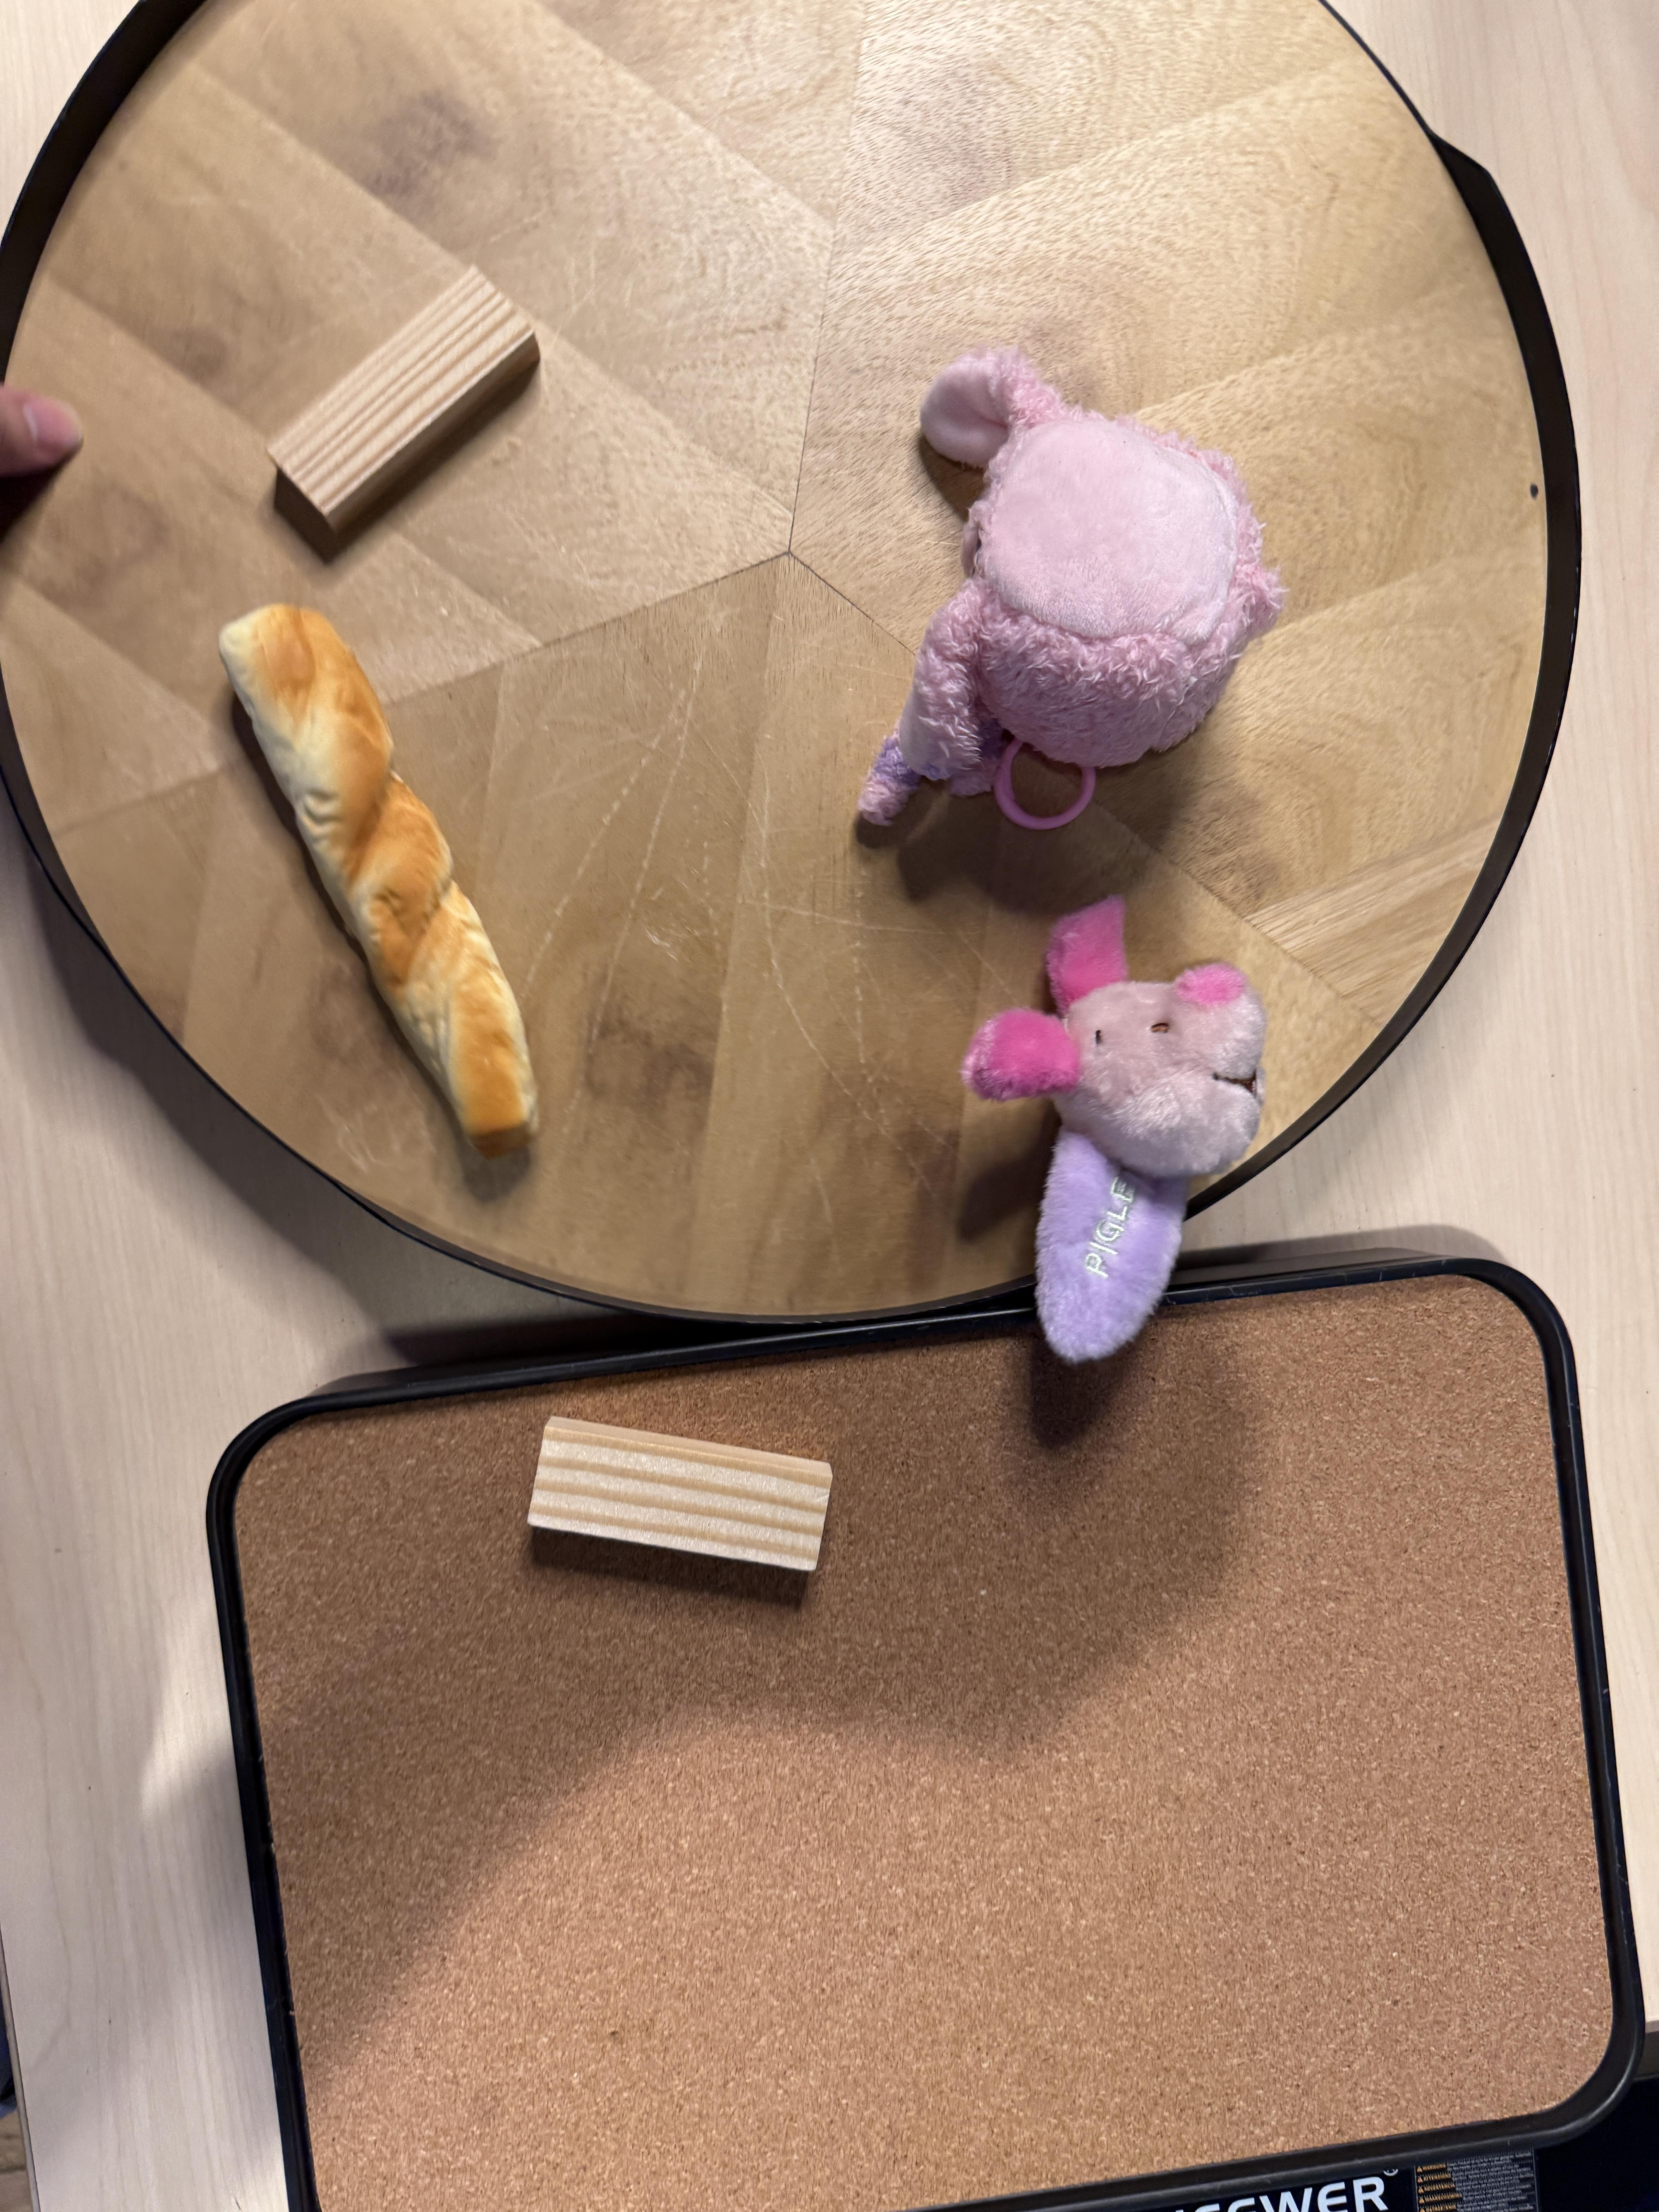block: (267, 272, 545, 519), (519, 1418, 838, 1587)
bread: (225, 601, 545, 1155)
doll: (852, 361, 1279, 846), (972, 895, 1281, 1362)
